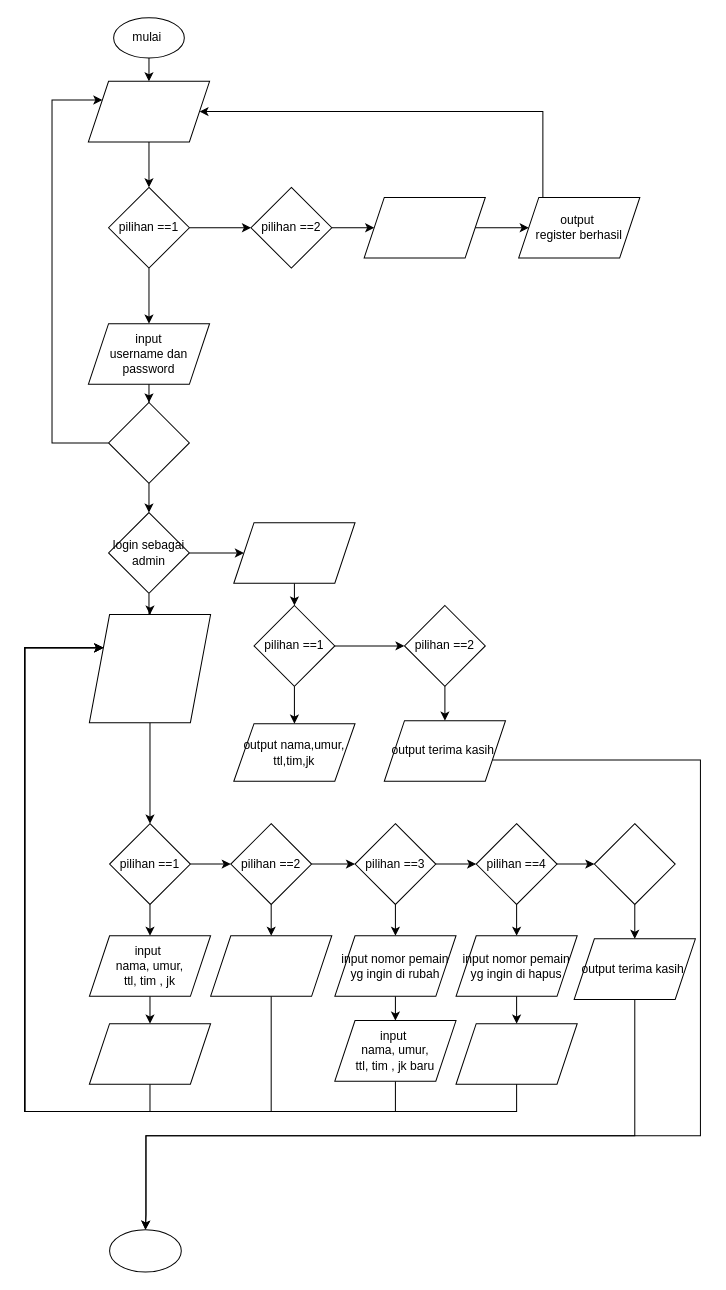
Some shapes in this 726 by 1290 pixel diagram are drawn without their labels. The shapes that lost their labels are listed below. From the top down, each one's box as (x1, y1, x2, y2) in pixels, then its label:
(87, 80, 210, 142): output 1.login 2.register
(363, 196, 485, 258): input username, password, role,baru
(108, 401, 189, 483): logiin berhasil
(233, 522, 355, 583): output 1.liat pemain 2. keluar
(88, 614, 211, 723): output 1.create 2.read 3.update 4.delete 5.logout
(593, 823, 675, 904): pilihan ==5
(210, 935, 332, 996): output nama,umur, ttl,yim,jk
(88, 1023, 211, 1084): output pemain berhasil di tambahkan
(455, 1023, 577, 1084): output pemain beerhasil di hapus
(109, 1229, 181, 1272): selesai
